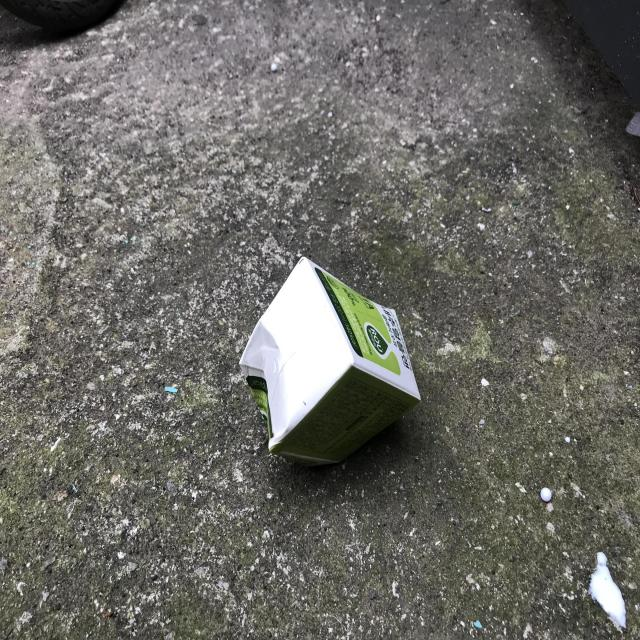paperpack: (239, 257, 421, 466)
